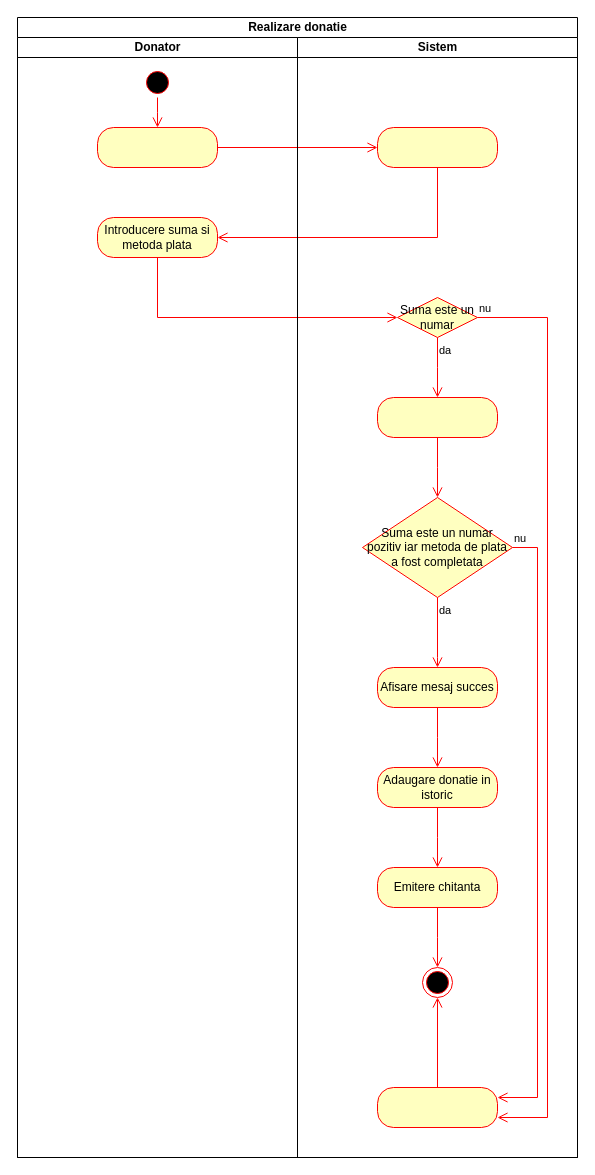
The diagram is 595 pixels wide and 1175 high, and some of its shapes have lost their labels. Each missing label, with the centre of its shape:
"Afisare formular donatie" goes at point (437, 147).
"Afisare mesaj eroare" goes at point (437, 1107).
"Procesare donatie" goes at point (437, 417).
"Solicitare donatie" goes at point (157, 147).
